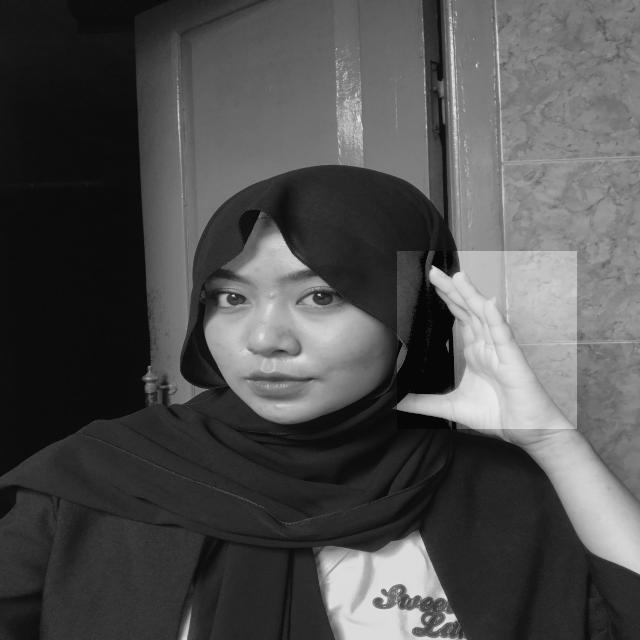mendengar: (397, 251, 577, 429)
